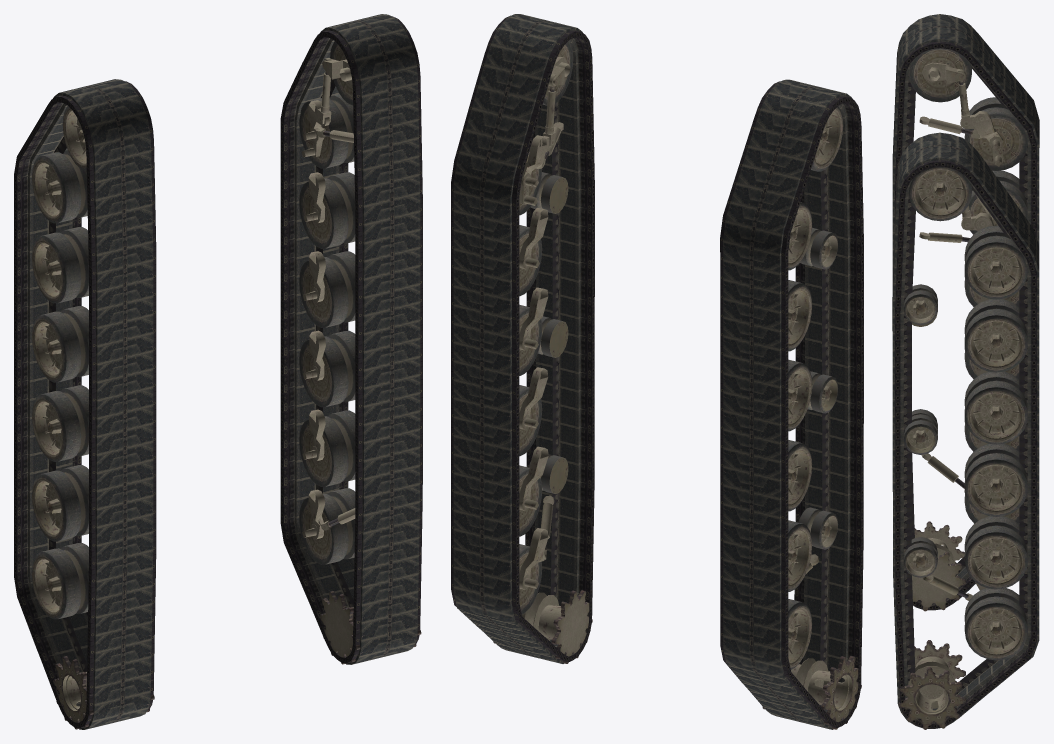
File: Chassis.glb
The picture shows the model from 3 angles, left to right: view 1: azimuth 30°, elevation 25°; view 2: azimuth 150°, elevation 25°; view 3: azimuth 270°, elevation 25°; orthographic projection. The views are drawn at different scales.
Visible parts, largest first — view 1: set_1_group_0, set_0_group_0, set_3_group_0, set_2_group_0; view 2: set_1_group_0, set_0_group_0, set_3_group_0, set_2_group_0; view 3: set_3_group_0, set_0_group_0, set_2_group_0, set_1_group_0.
Boxes of the visible parts, x1,y1,x2,y2 form: set_1_group_0: (14,79,156,729); set_0_group_0: (280,14,422,664); set_3_group_0: (299,41,421,664); set_2_group_0: (32,106,154,729); set_1_group_0: (720,79,863,729); set_0_group_0: (451,14,594,663); set_3_group_0: (493,41,592,663); set_2_group_0: (762,106,861,729); set_3_group_0: (898,166,1027,729); set_0_group_0: (892,132,1039,728); set_2_group_0: (909,48,1027,611); set_1_group_0: (892,14,1039,610).
Size of the model in its own units: 3.63 by 6.58 by 1.53.
4 materials, 4 textured.
